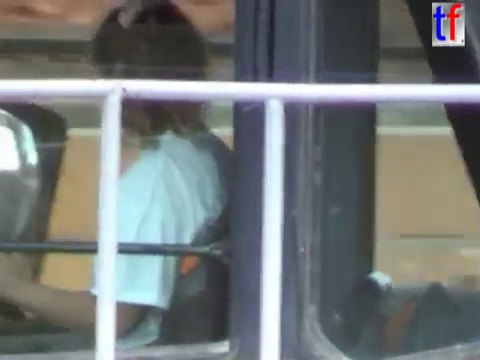truck: (1, 1, 480, 360)
worker: (1, 1, 242, 360)
